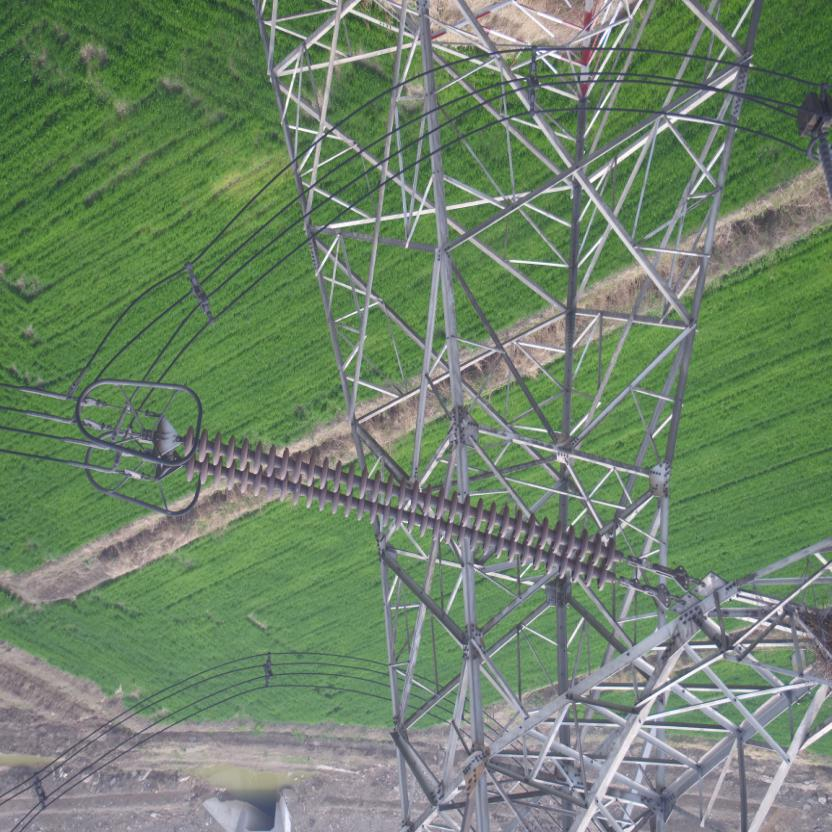insulator: (165, 426, 647, 596)
